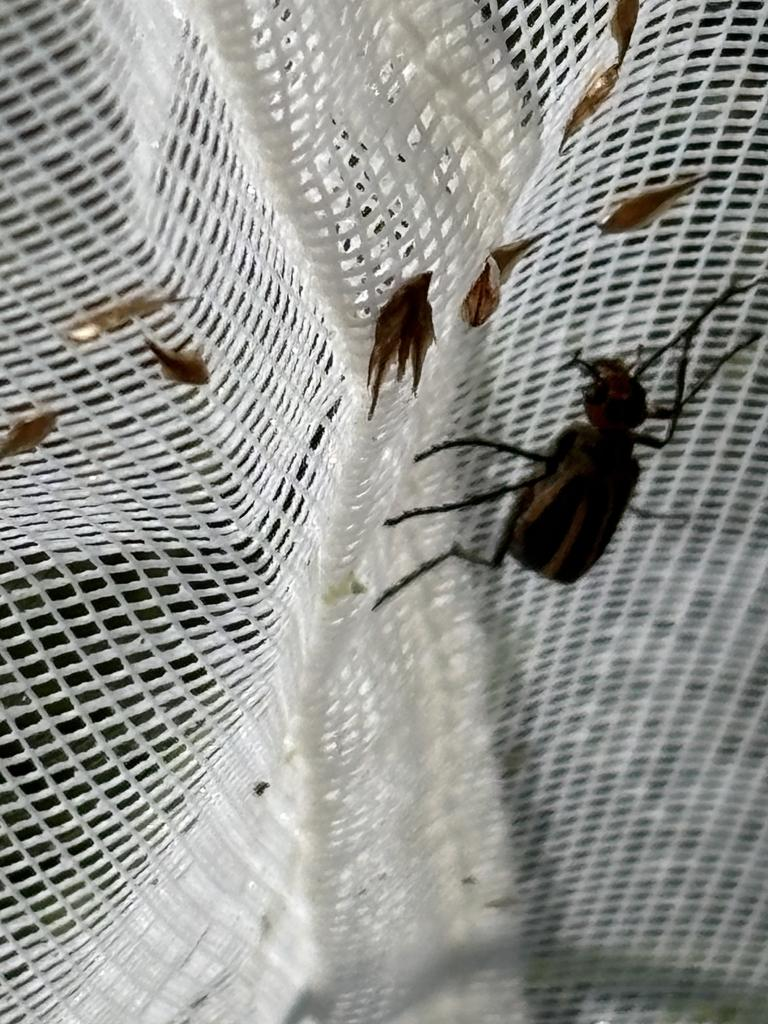blister_beetle: (326, 248, 768, 680)
